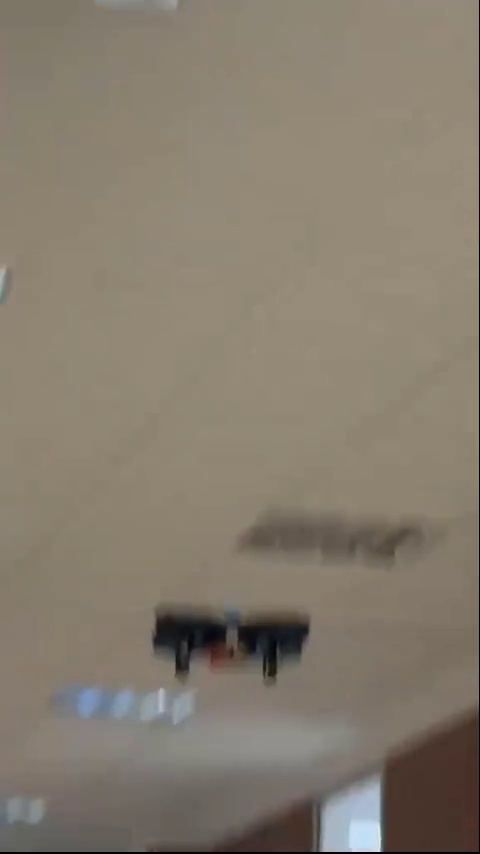drone: (147, 613, 312, 680)
